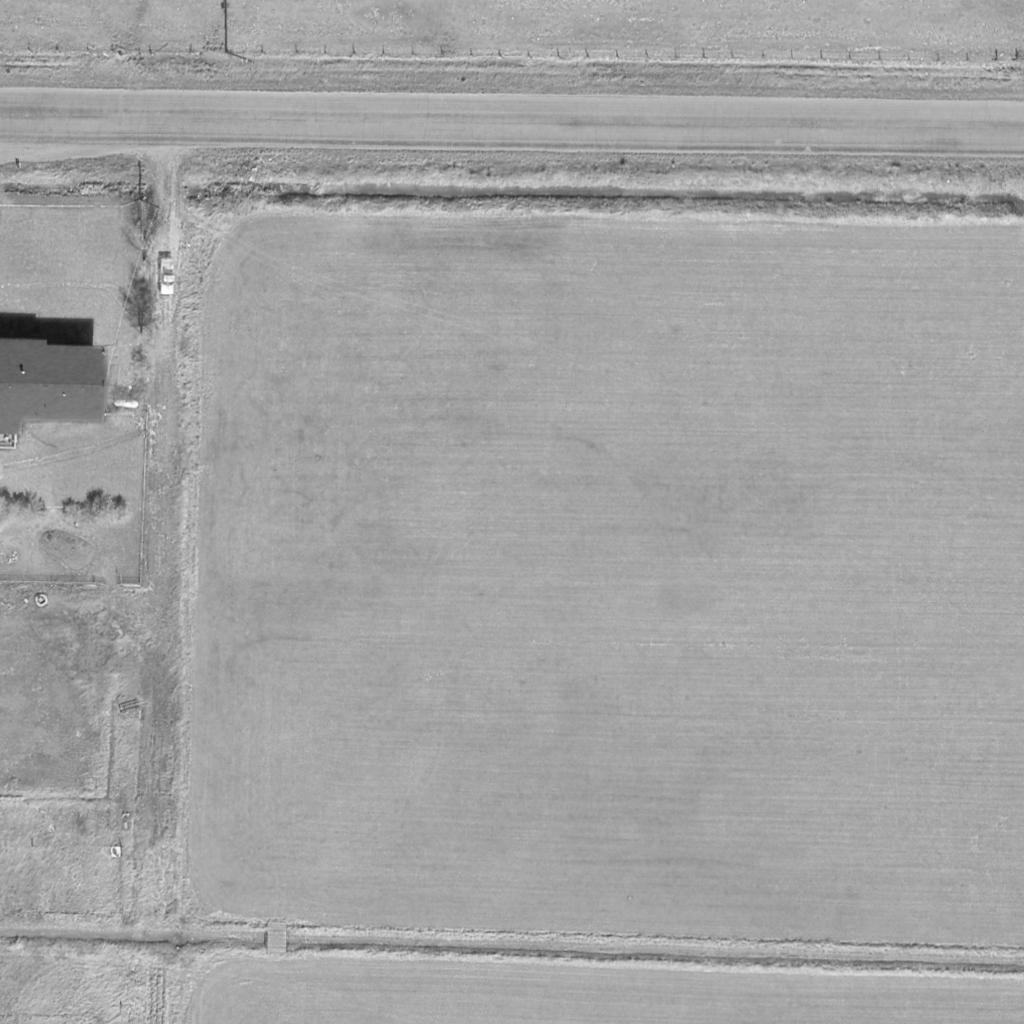vehicle: (159, 258, 175, 296)
